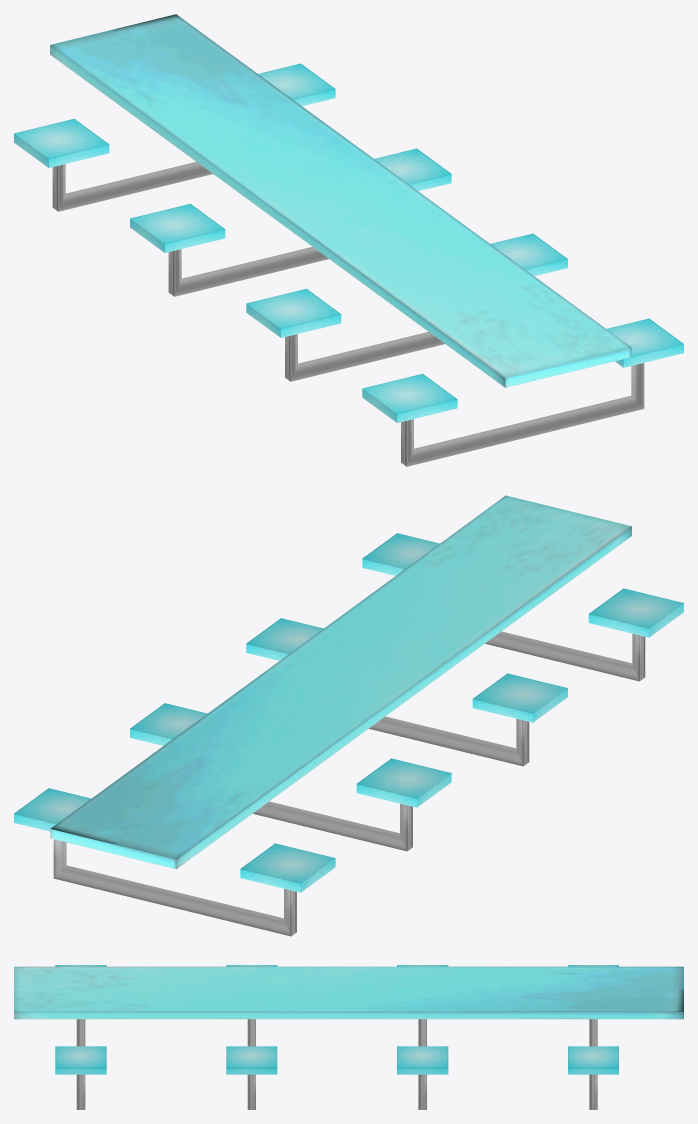
File: table04.glb
The picture shows the model from 3 angles, top to bottom: view 1: azimuth 30°, elevation 25°; view 2: azimuth 150°, elevation 25°; view 3: azimuth 270°, elevation 25°; orthographic projection. The views are drawn at different scales.
Visible parts, largest first — view 1: table04; view 2: table04; view 3: table04.
Part boxes in pixels (bbox=[...]): table04: bbox=[14, 14, 683, 466]; table04: bbox=[14, 495, 683, 936]; table04: bbox=[14, 965, 683, 1109].
Bounding box in the file's own units: 337 × 119 × 926.
Materials: 1 (1 with a texture image).
